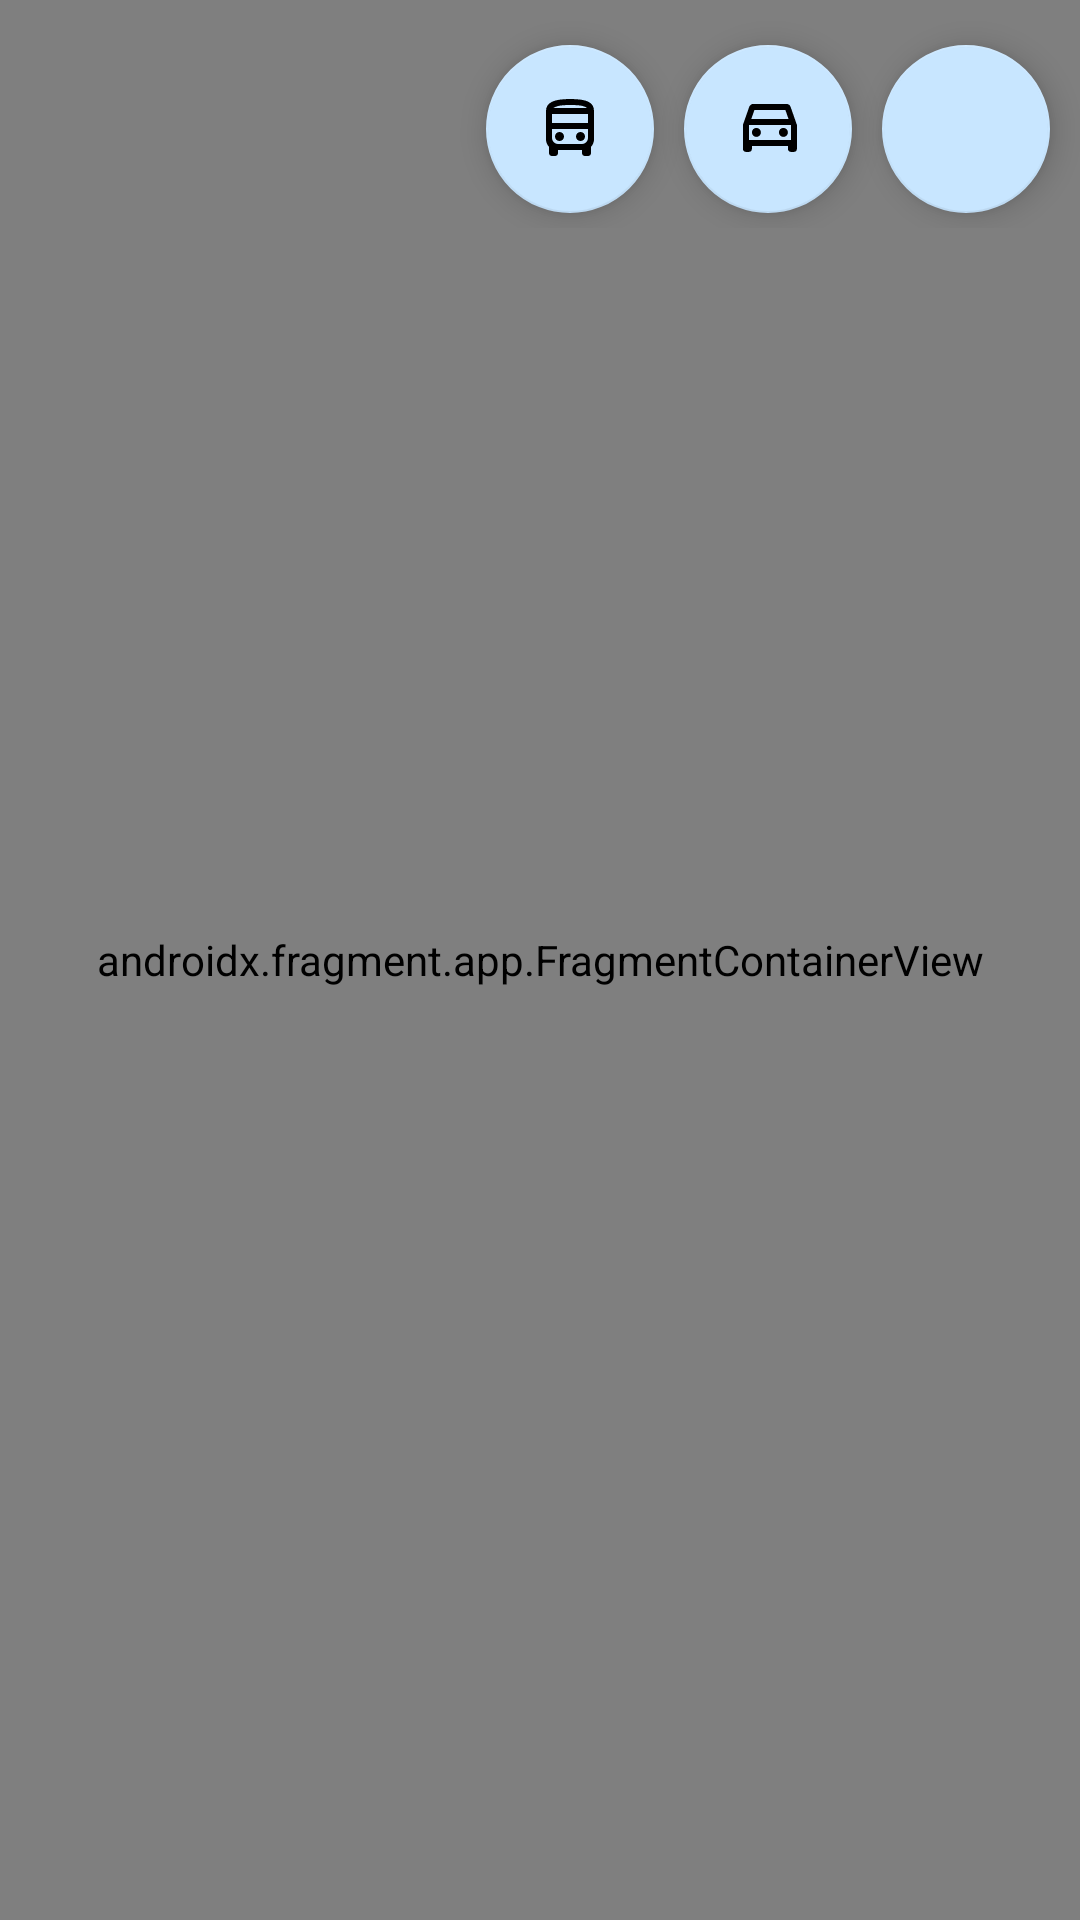

Icon bounding boxes for this 1080 x 1920 phone screenshot, format [left=x1, top=y1, right=x2, bottom=y2]:
bus: [left=486, top=45, right=654, bottom=213]
car: [left=684, top=45, right=852, bottom=213]
